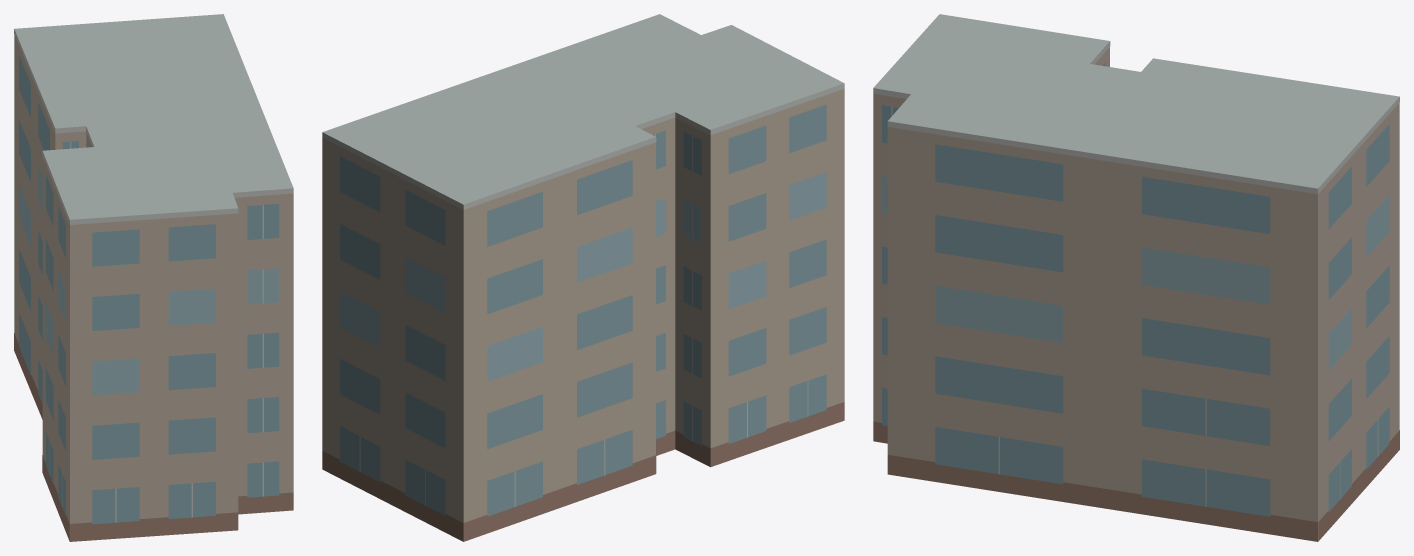
Rendered from survey-upis-33008228.glb.
3 views of the same model, side by side, from view 1: azimuth 30°, elevation 25°; view 2: azimuth 150°, elevation 25°; view 3: azimuth 270°, elevation 25° (orthographic). The views are drawn at different scales.
Parts seen in each view (by area): view 1: survey-upis-33008228.tmp; view 2: survey-upis-33008228.tmp; view 3: survey-upis-33008228.tmp.
Part boxes in pixels (<box>): survey-upis-33008228.tmp: <box>14,14,293,541</box>; survey-upis-33008228.tmp: <box>322,14,844,541</box>; survey-upis-33008228.tmp: <box>873,14,1399,541</box>.
Bounding box in the file's own units: 16.29 × 15.35 × 20.75.
